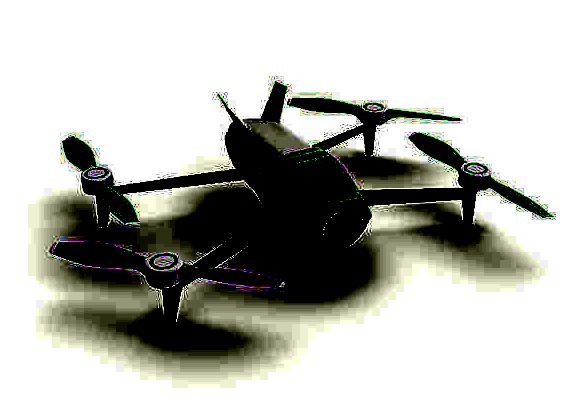Drone: (38, 78, 557, 333)
